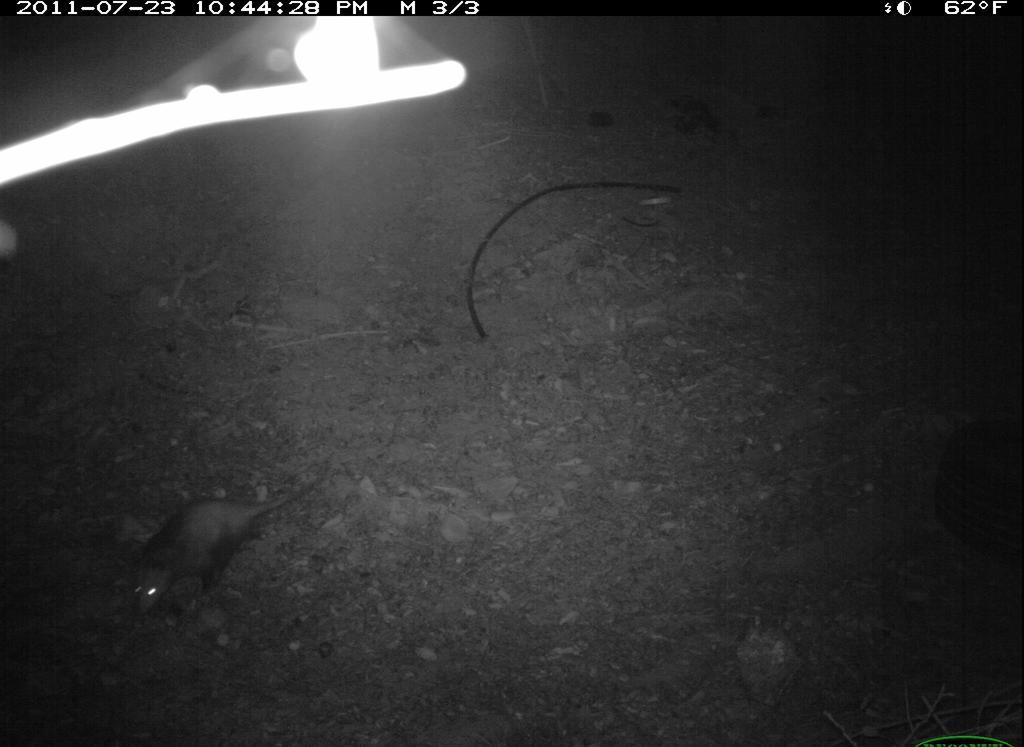opossum: (124, 473, 328, 619)
